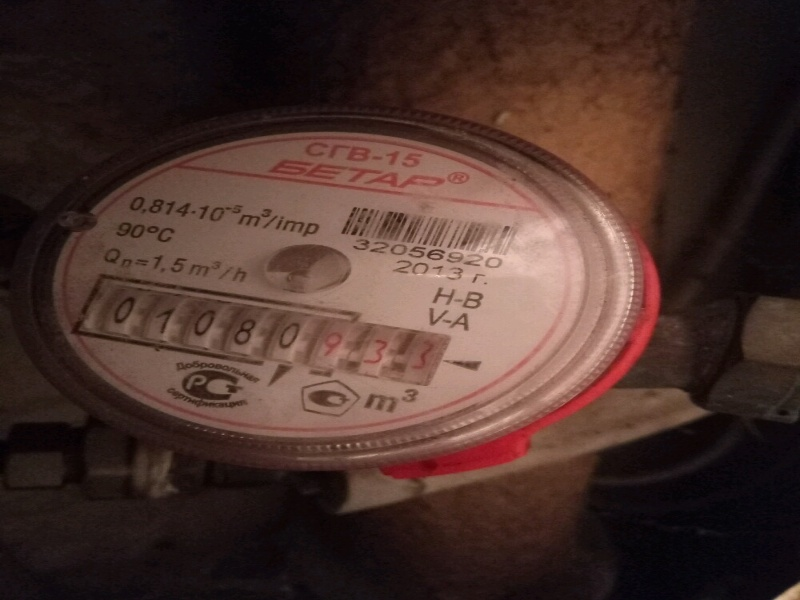dial: (80, 292, 425, 378)
